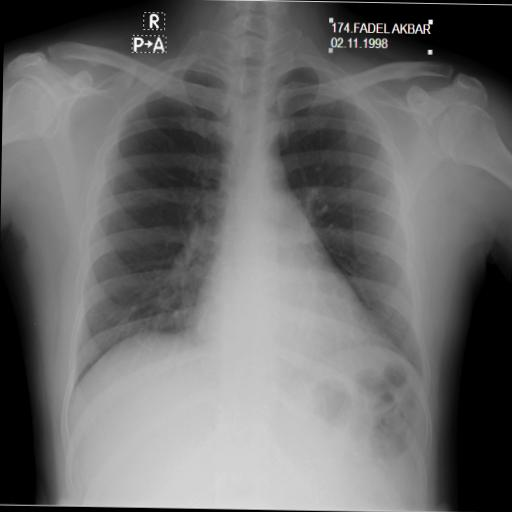kardiomegali: (61, 34, 450, 428)
